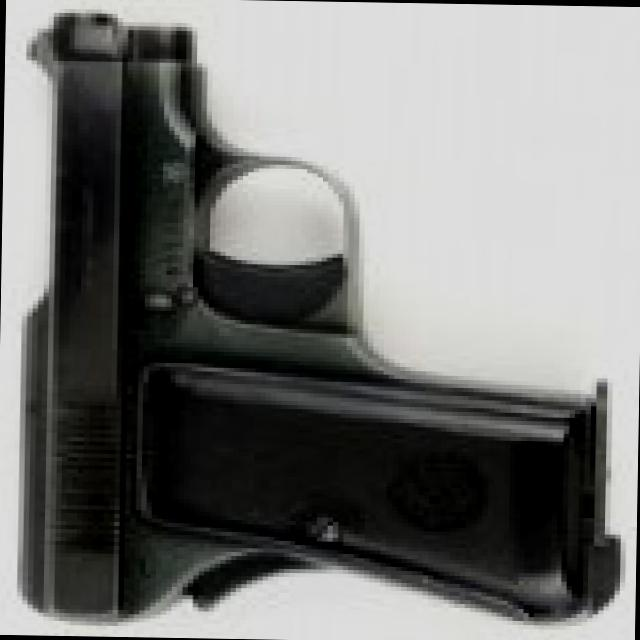handgun: (1, 19, 634, 634)
